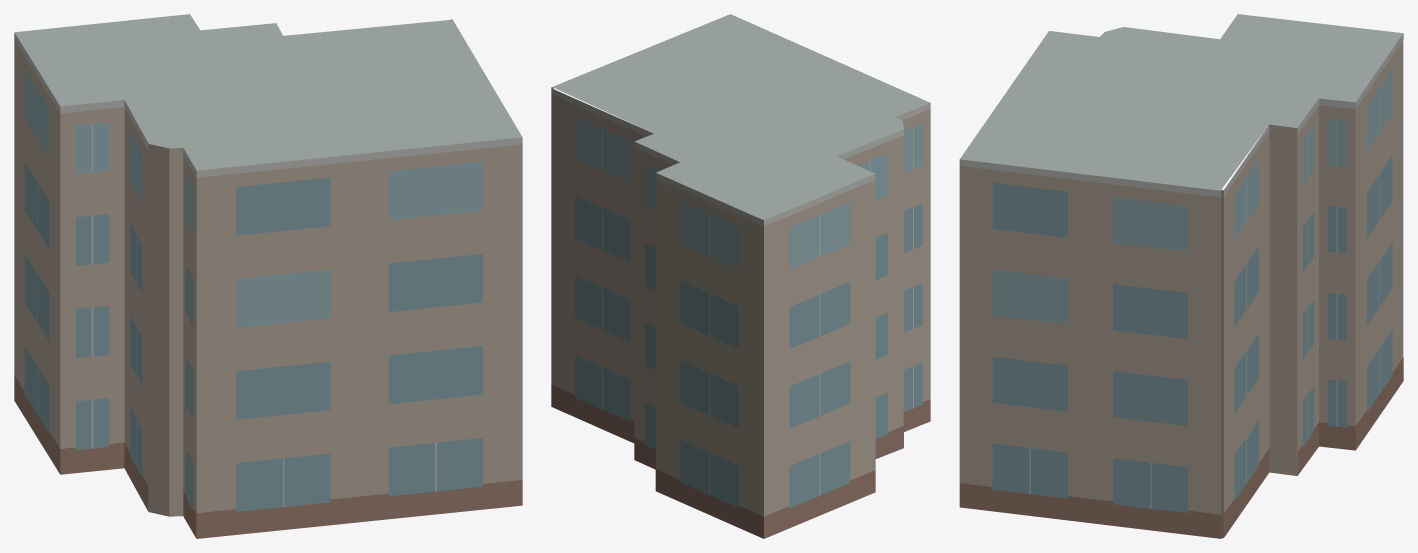
File: survey-upis-32814779.glb
3 renders of one model, left to right at view 1: azimuth 30°, elevation 25°; view 2: azimuth 150°, elevation 25°; view 3: azimuth 270°, elevation 25°, orthographic. The views are drawn at different scales.
Parts seen in each view (by area): view 1: survey-upis-32814779.tmp; view 2: survey-upis-32814779.tmp; view 3: survey-upis-32814779.tmp.
Part boxes in pixels (x1=…): survey-upis-32814779.tmp: x1=14, y1=14, x2=522, y2=538; survey-upis-32814779.tmp: x1=551, y1=14, x2=930, y2=538; survey-upis-32814779.tmp: x1=959, y1=14, x2=1403, y2=538.
Bounding box in the file's own units: 13.84 × 12.69 × 14.68.
